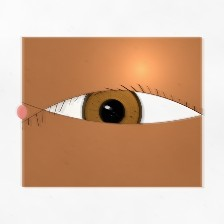pinguecula_lesion: (30, 104, 70, 137)
